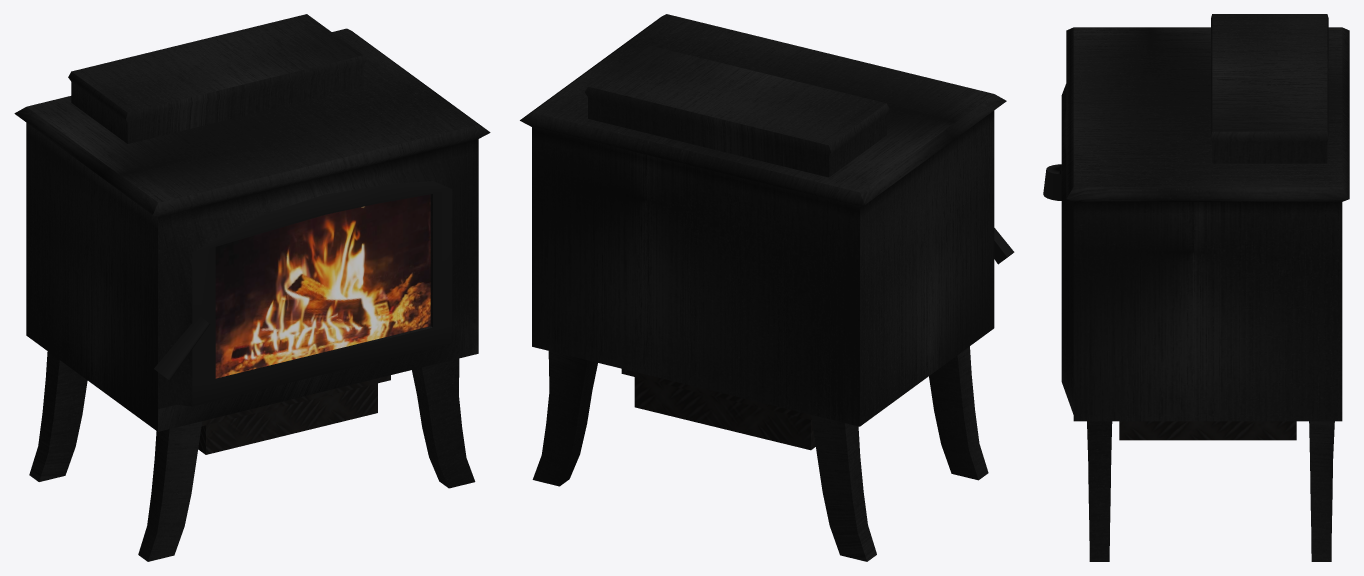
File: Furnace.fbx
3 renders of one model, left to right at view 1: azimuth 30°, elevation 25°; view 2: azimuth 150°, elevation 25°; view 3: azimuth 270°, elevation 25°, orthographic. The views are drawn at different scales.
Parts seen in each view (by area): view 1: pCube9; view 2: pCube9; view 3: pCube9.
Boxes of the visible parts, box(x1,y1,x2,y2) form: pCube9: box(14, 14, 490, 561); pCube9: box(520, 14, 1014, 561); pCube9: box(1043, 14, 1349, 561).
Size of the model in its own units: 2.25 by 2.52 by 1.73.
